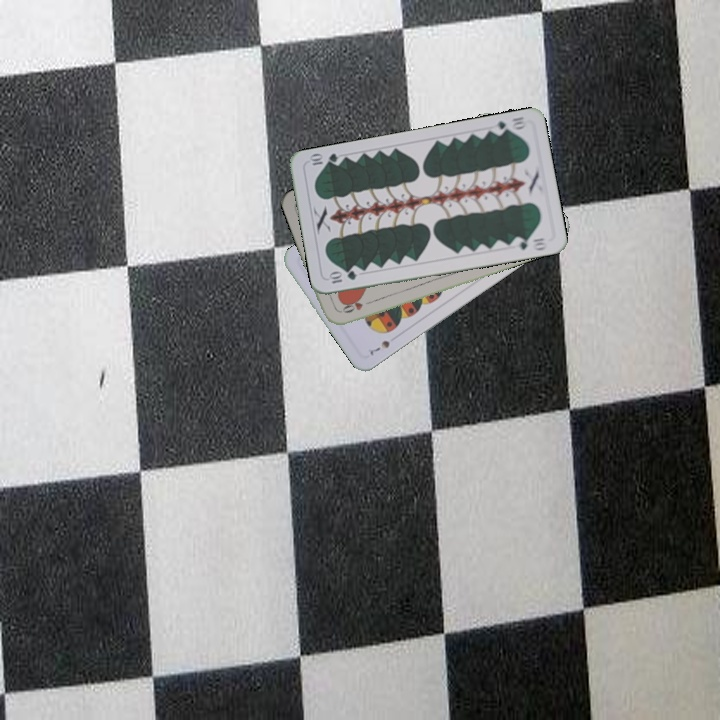G10: (488, 112, 530, 137), (325, 267, 359, 286)
HO: (336, 296, 376, 316)
S7: (366, 336, 392, 357)
